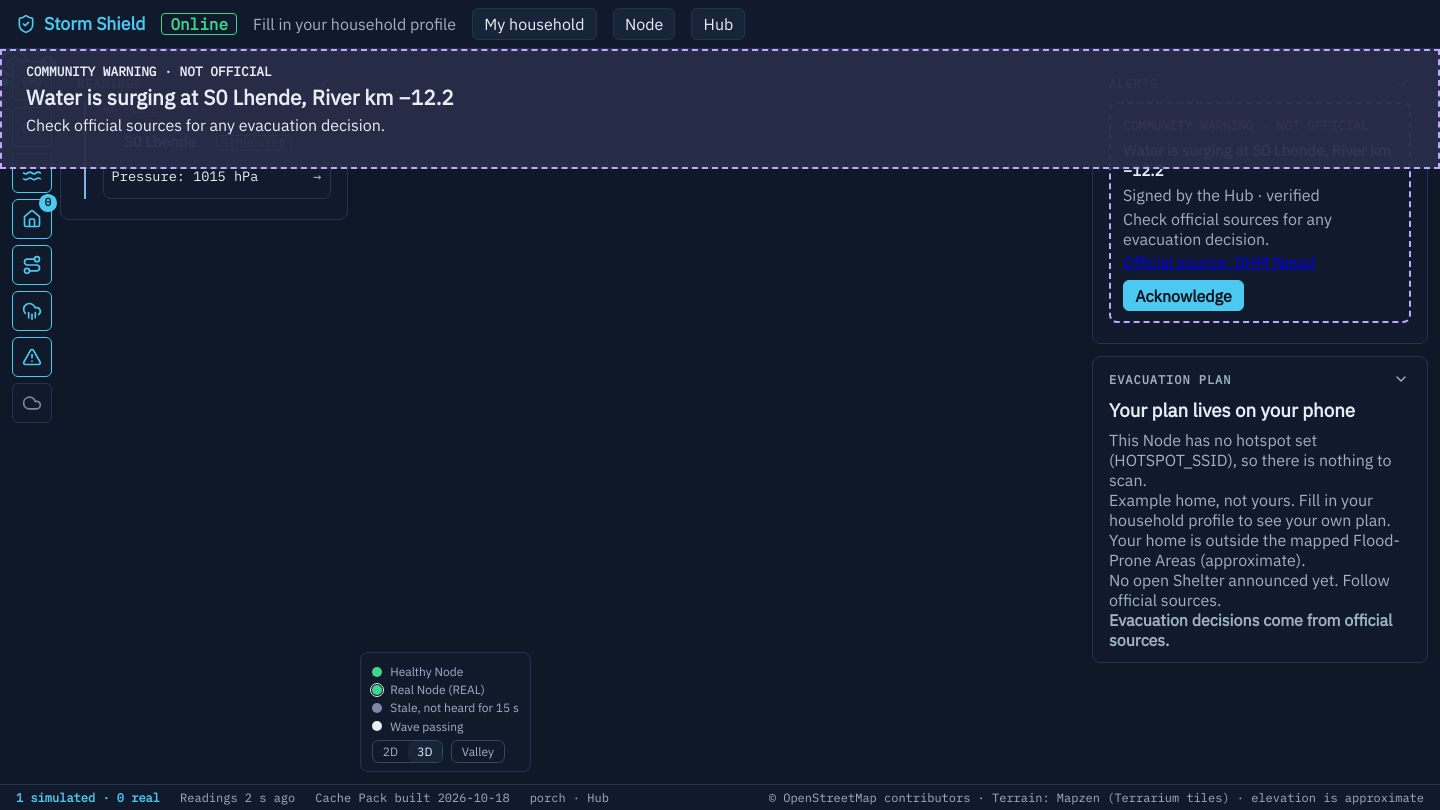
it: the warning band on a desktop › stays until the card in the Alerts Panel is acknowledged, then leaves a chip
Step 1. Click the button "Acknowledge" → (1183, 296), box x1=1123 y1=280 x2=1244 y2=311
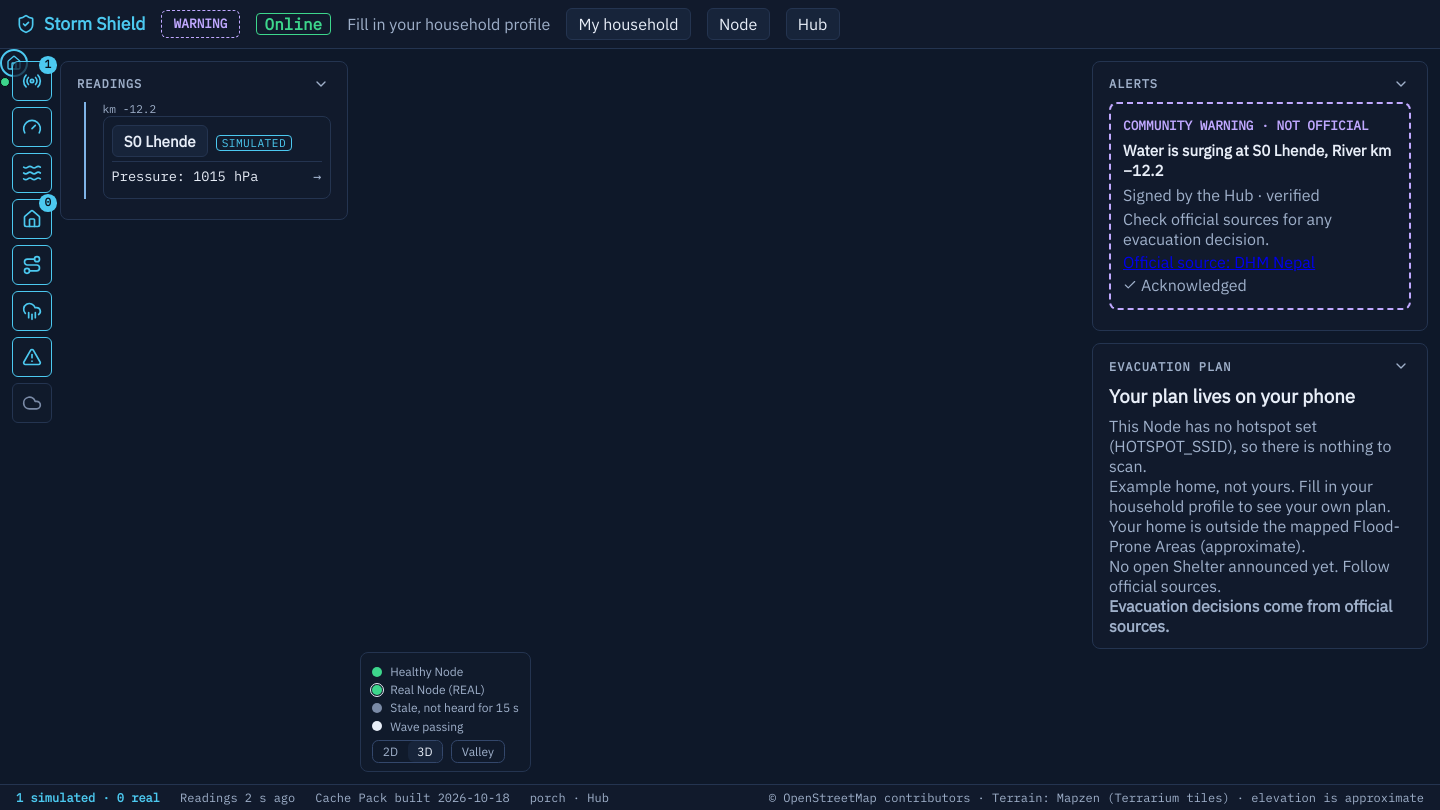
Now the text "Acknowledged" is shown, box x1=1123 y1=275 x2=1247 y2=295
Now the message is gone
